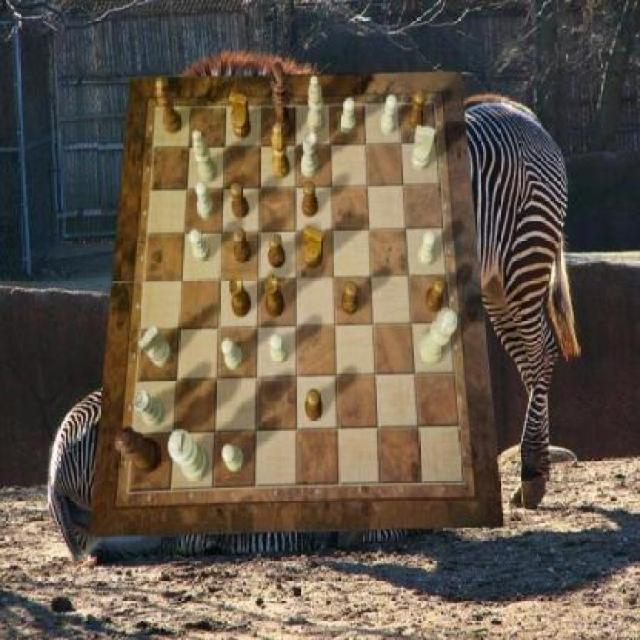bishop: (157, 78, 183, 134), (271, 123, 290, 179)
black-bishop: (271, 62, 293, 143)
black-king: (229, 92, 252, 140), (304, 224, 324, 268)
black-knight: (424, 279, 446, 313), (232, 228, 252, 262), (230, 182, 248, 218), (408, 91, 425, 129), (303, 182, 320, 219), (268, 232, 285, 267), (342, 282, 359, 316), (305, 389, 322, 422)
black-pawn: (114, 426, 161, 474)
black-queen: (230, 275, 252, 318), (266, 274, 286, 318)
black-rook: (194, 129, 218, 183), (308, 75, 325, 133)
white-bishop: (168, 431, 208, 483)
white-king: (138, 325, 172, 367), (412, 126, 437, 172)
white-knight: (221, 338, 244, 371), (380, 96, 398, 136), (189, 231, 210, 263), (195, 182, 213, 219), (221, 445, 244, 472), (419, 231, 436, 267), (340, 98, 357, 134), (271, 334, 288, 363)
white-pawn: (418, 308, 458, 364)
white-queen: (134, 389, 166, 427), (300, 132, 319, 178)
